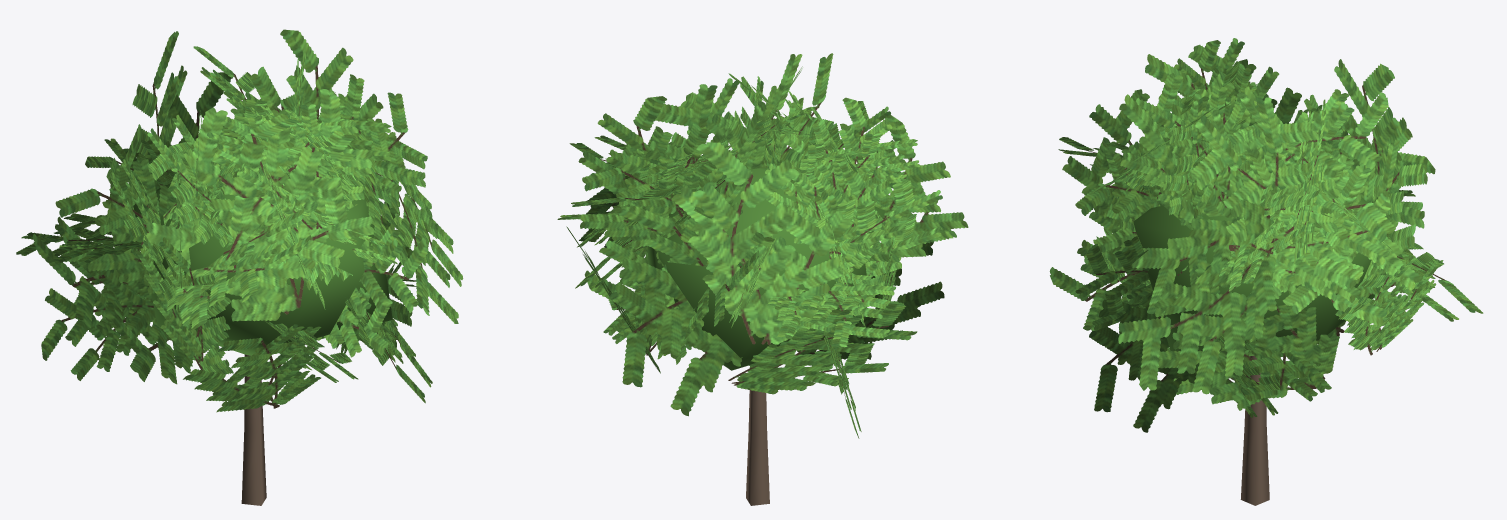
The model's file is STYPHNOLOBIUM_2.glb.
The picture shows the model from 3 angles, left to right: view 1: azimuth 30°, elevation 25°; view 2: azimuth 150°, elevation 25°; view 3: azimuth 270°, elevation 25°; orthographic projection. The views are drawn at different scales.
Visible parts, largest first — view 1: Arv_STYPHNOLOBIUM_lod2; view 2: Arv_STYPHNOLOBIUM_lod2; view 3: Arv_STYPHNOLOBIUM_lod2.
Part boxes in pixels (<box>): Arv_STYPHNOLOBIUM_lod2: <box>16,29,463,505</box>; Arv_STYPHNOLOBIUM_lod2: <box>557,53,968,505</box>; Arv_STYPHNOLOBIUM_lod2: <box>1049,38,1483,505</box>.
Size of the model in its own units: 11.7 by 12.27 by 11.18.
Materials: 3 (1 with a texture image).
